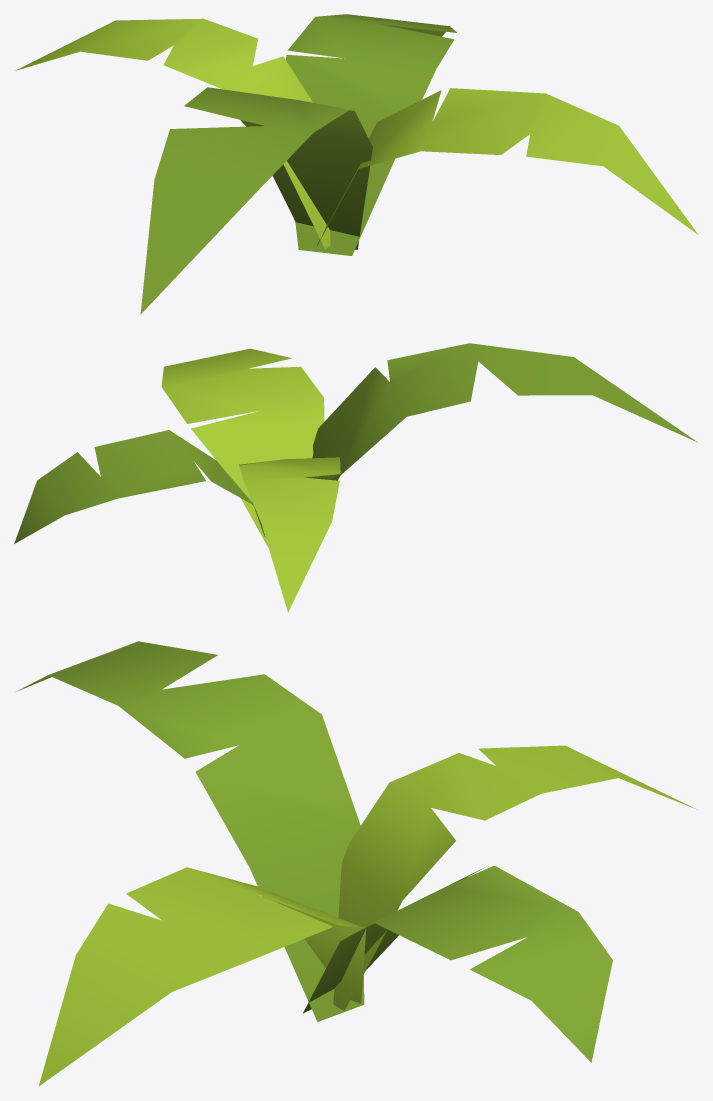
The model's file is Grass_21.fbx.
3 views of the same model, one above another, from view 1: azimuth 30°, elevation 25°; view 2: azimuth 150°, elevation 25°; view 3: azimuth 270°, elevation 25° (orthographic). The views are drawn at different scales.
Visible parts, largest first — view 1: Grass_21; view 2: Grass_21; view 3: Grass_21.
Part boxes in pixels (left/top/right/bottom): Grass_21: left=15, top=14, right=698, bottom=314; Grass_21: left=14, top=343, right=697, bottom=612; Grass_21: left=16, top=641, right=697, bottom=1085.
Bounding box in the file's own units: 86.68 × 30.99 × 79.14.
